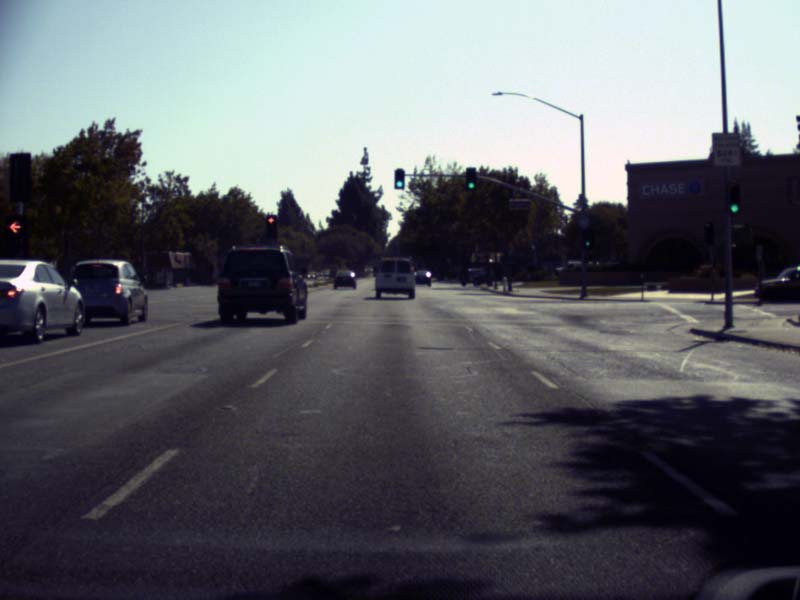Green: (729, 181, 740, 214), (465, 167, 476, 191), (583, 227, 594, 249), (394, 168, 404, 189)
Red: (6, 215, 26, 257), (266, 216, 277, 239)
